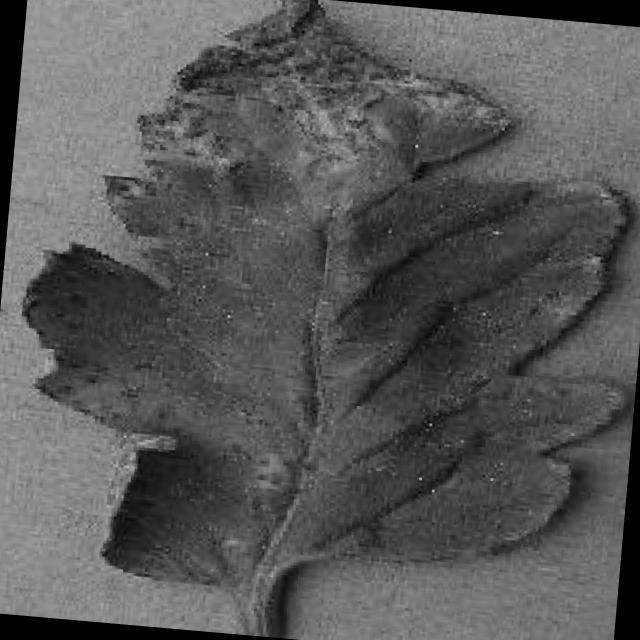bacterial spot: (24, 0, 633, 636)
